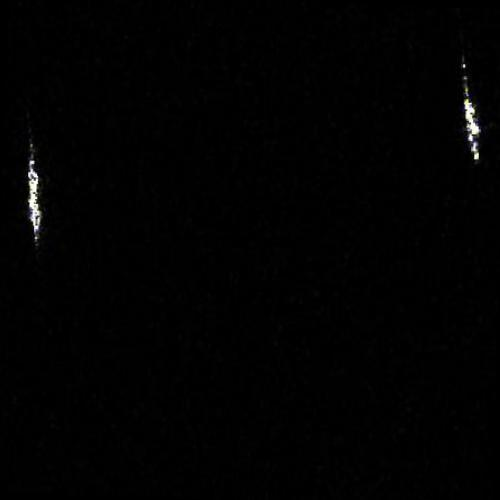ship: (26, 150, 42, 239), (462, 93, 481, 166)
